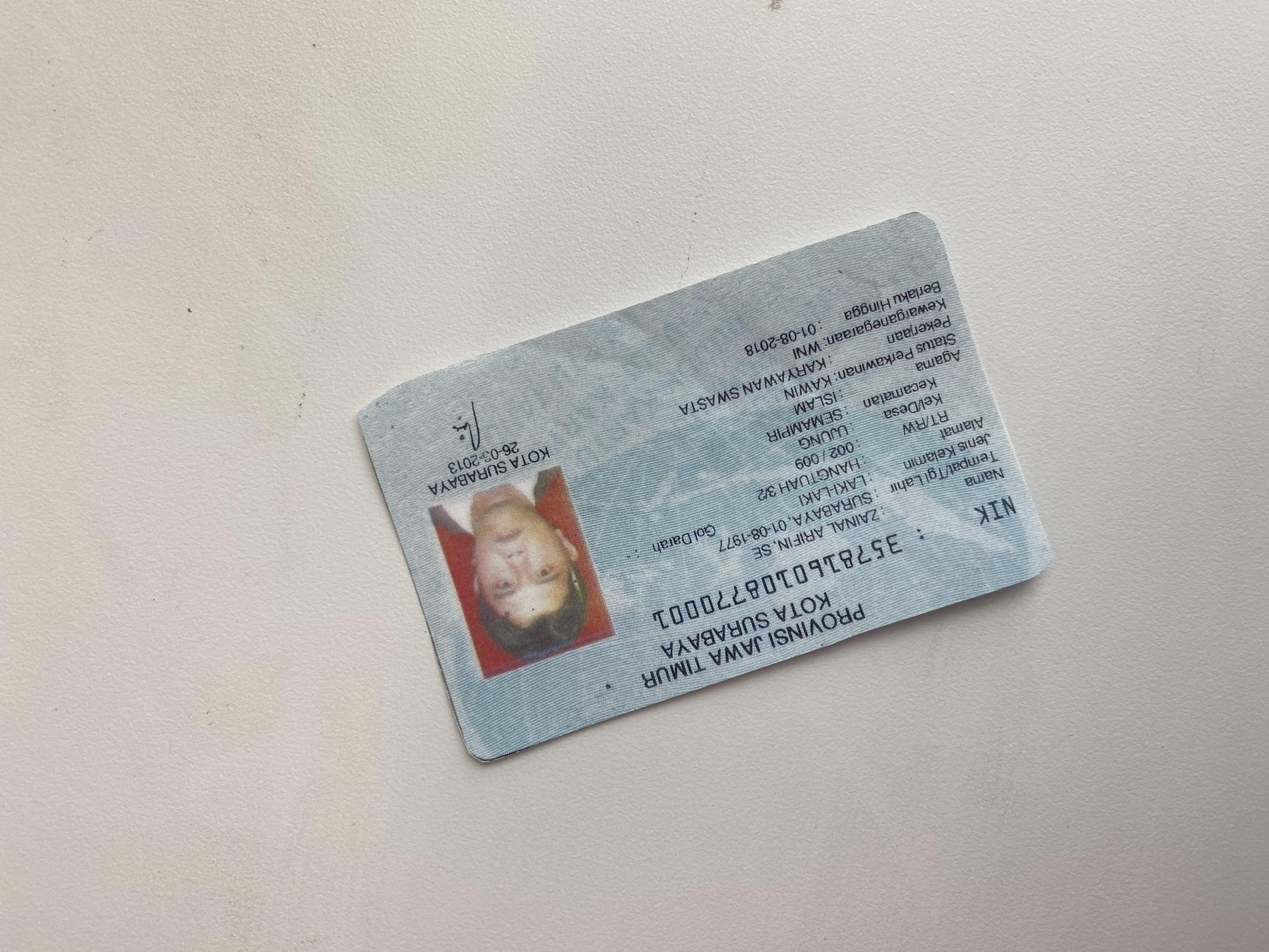ID-card: (246, 261, 997, 789)
